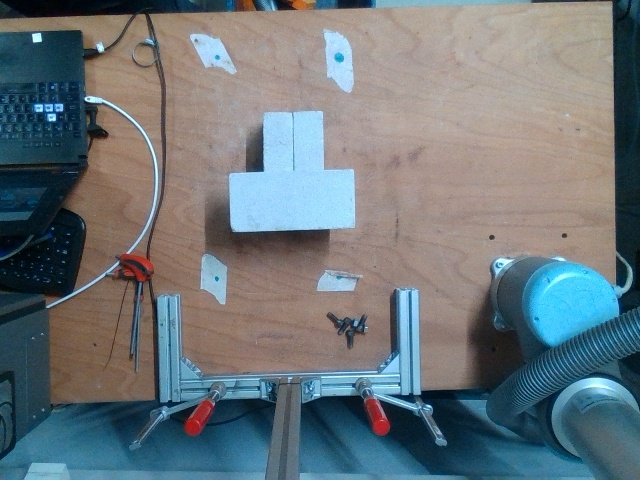brick: (227, 170, 354, 231)
